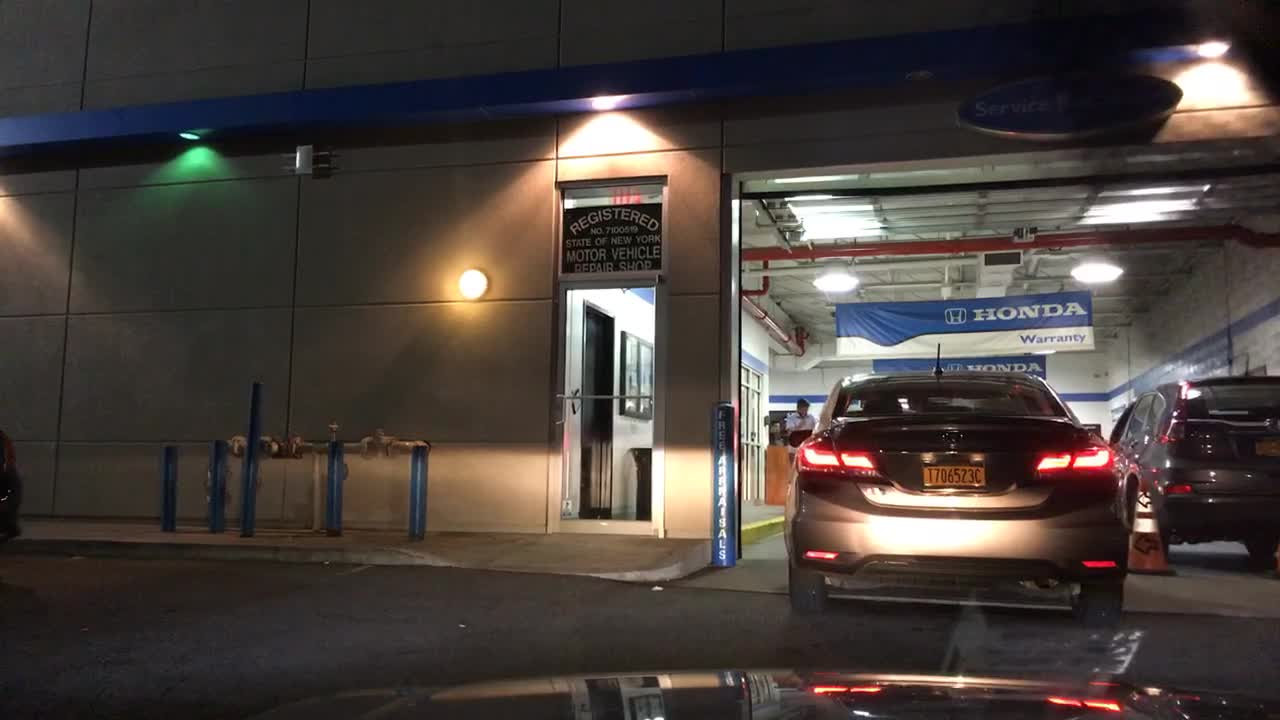car: (779, 342, 1130, 636), (1105, 374, 1279, 570), (0, 428, 25, 550)
person: (781, 391, 815, 449)
